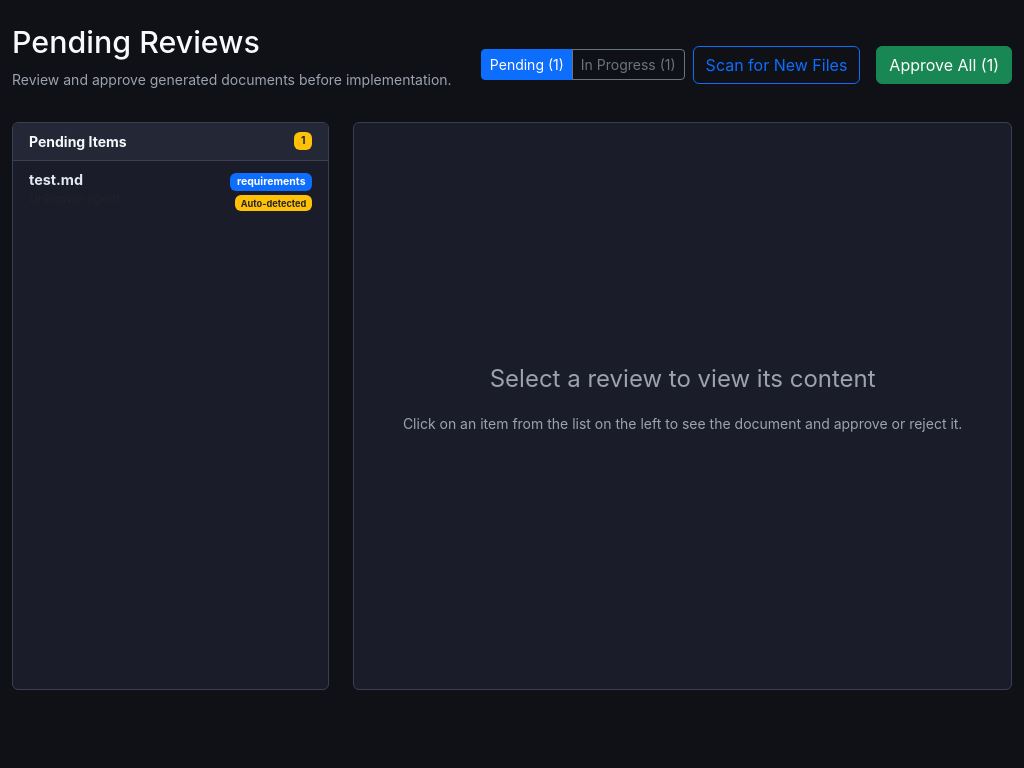
Test: PendingReviewDashboard › Error Handling › shows error message when content fetch fails
Click the text "test.md": (56, 179) [29,170,83,188]
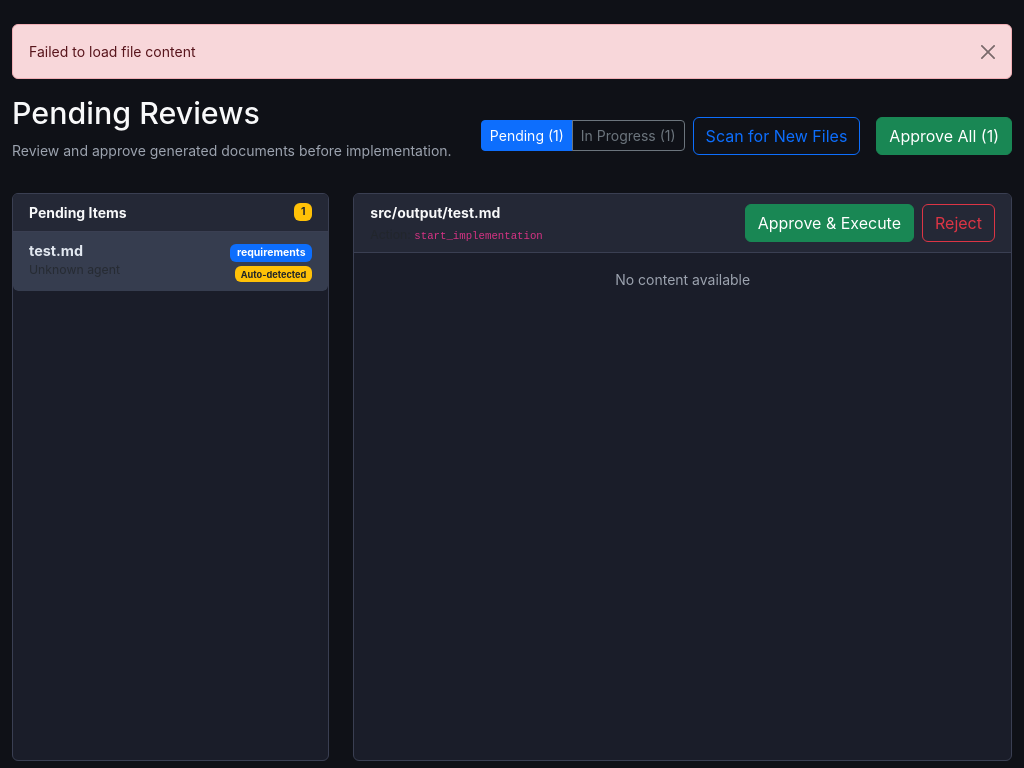
Result: the text "Failed to load file content" is shown at [12,24,1012,79]
